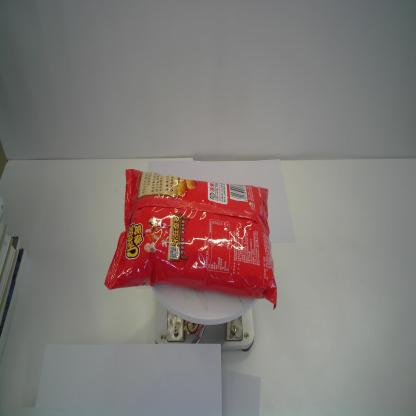Puffed Food: (103, 168, 278, 313)
